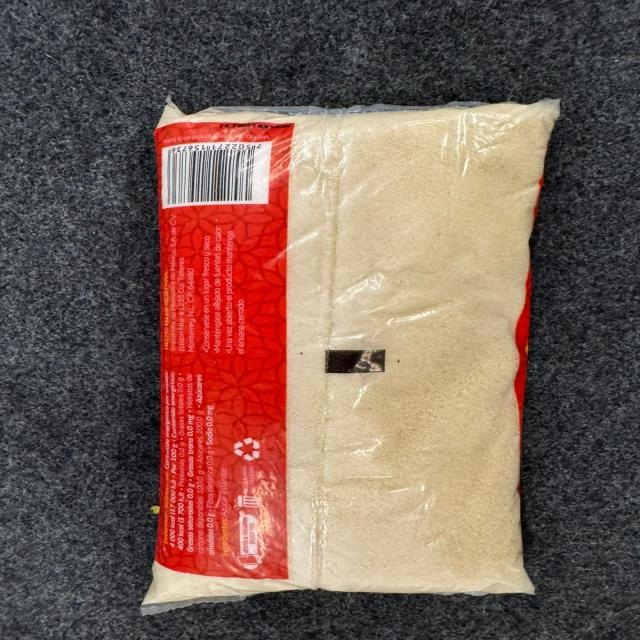Azucar Estandar La Posada 1 kg: (140, 92, 566, 610)
